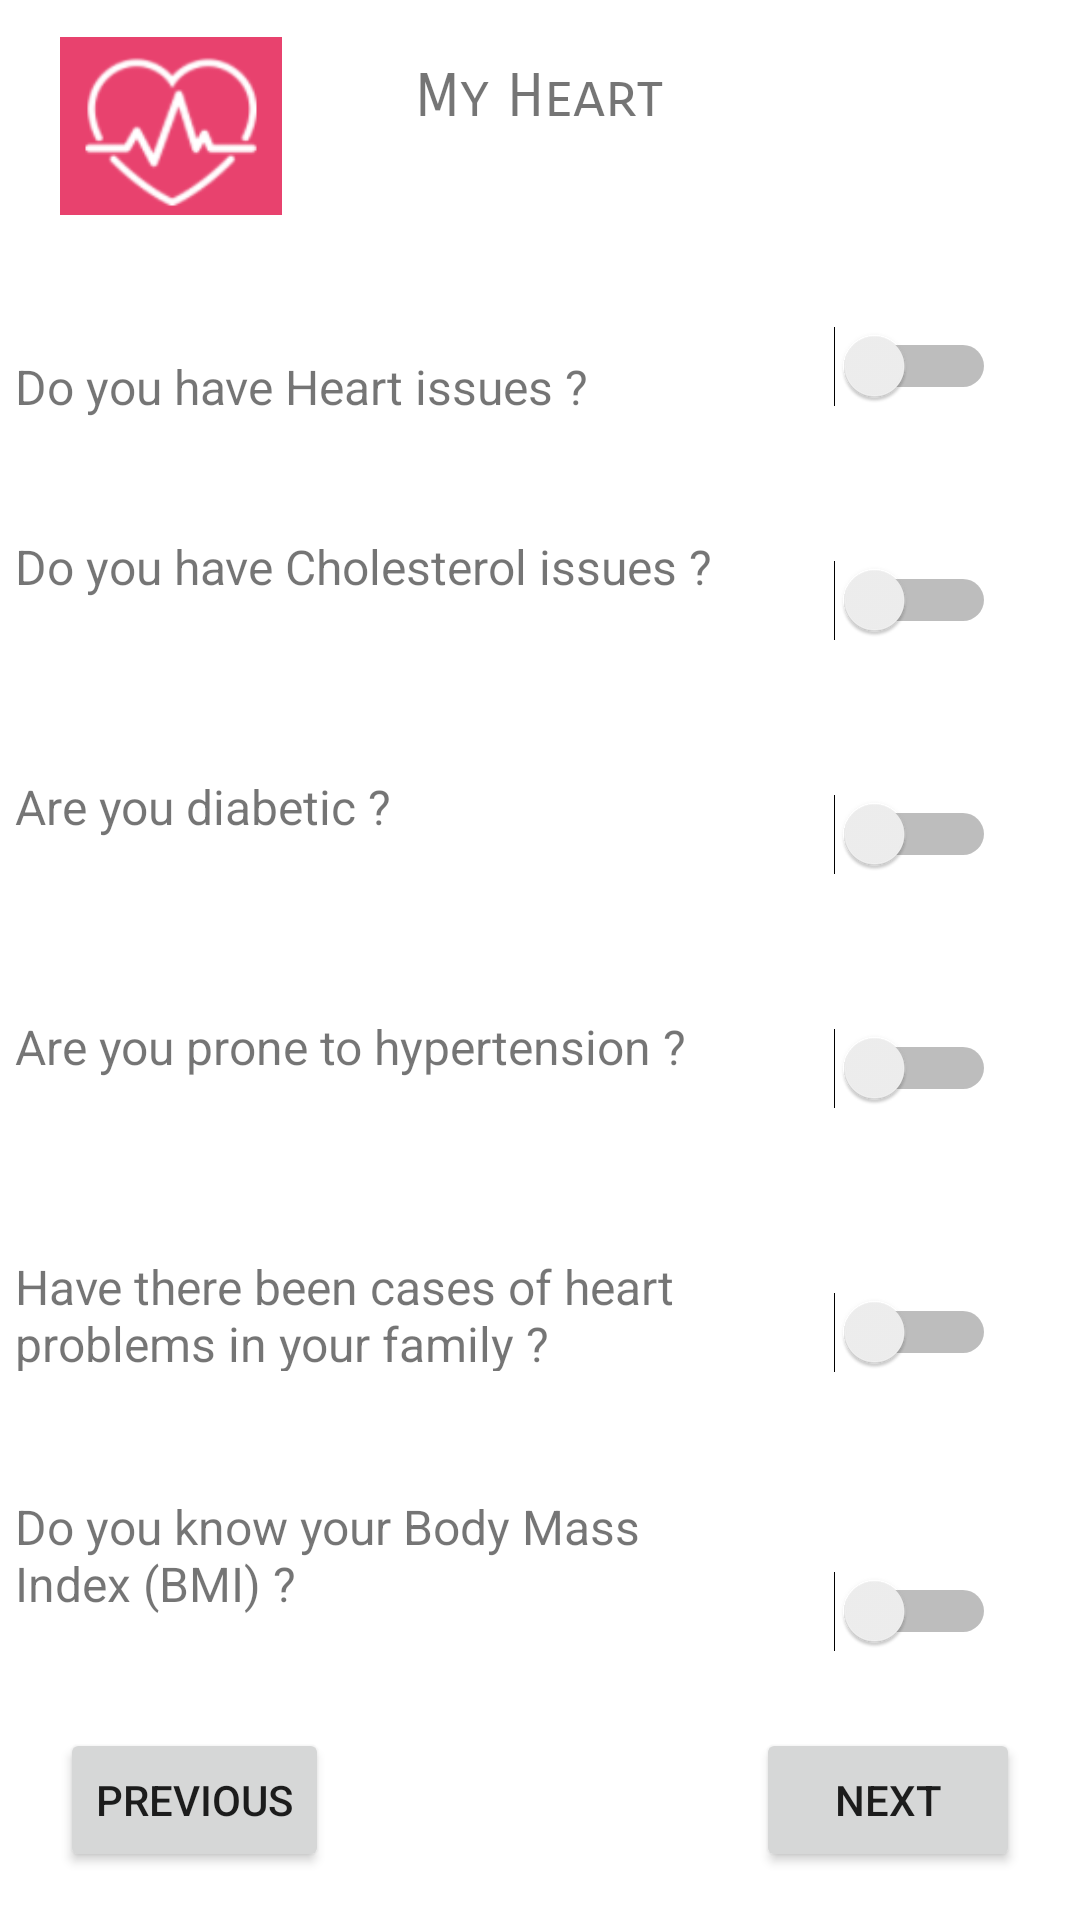

Icon bounding boxes for this 1080px×1920px phone screenshot, format [x1=x1, y1=y1, x2=x2, y2=y2]:
moncoeur: [x1=60, y1=37, x2=282, y2=215]
